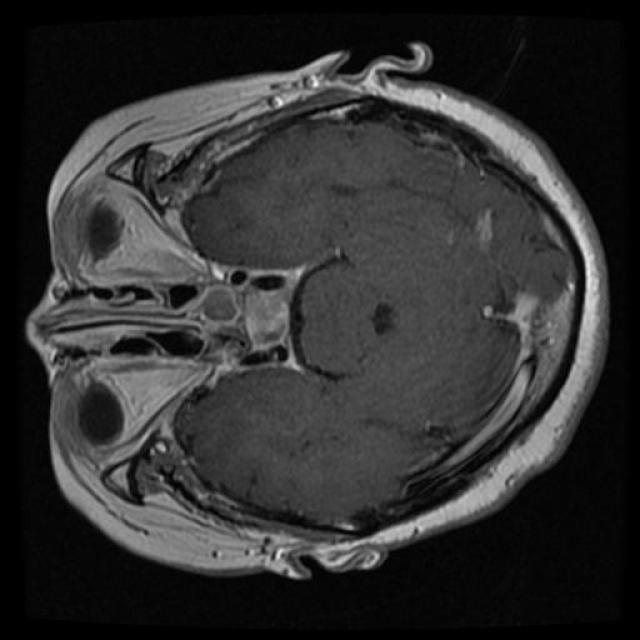Pituitary: (225, 247, 347, 378)
